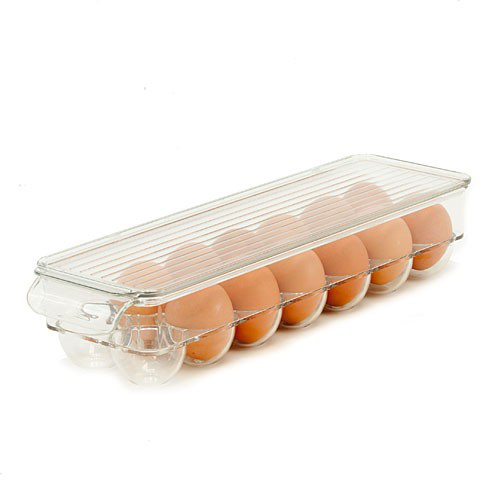egg: (75, 180, 456, 356)
